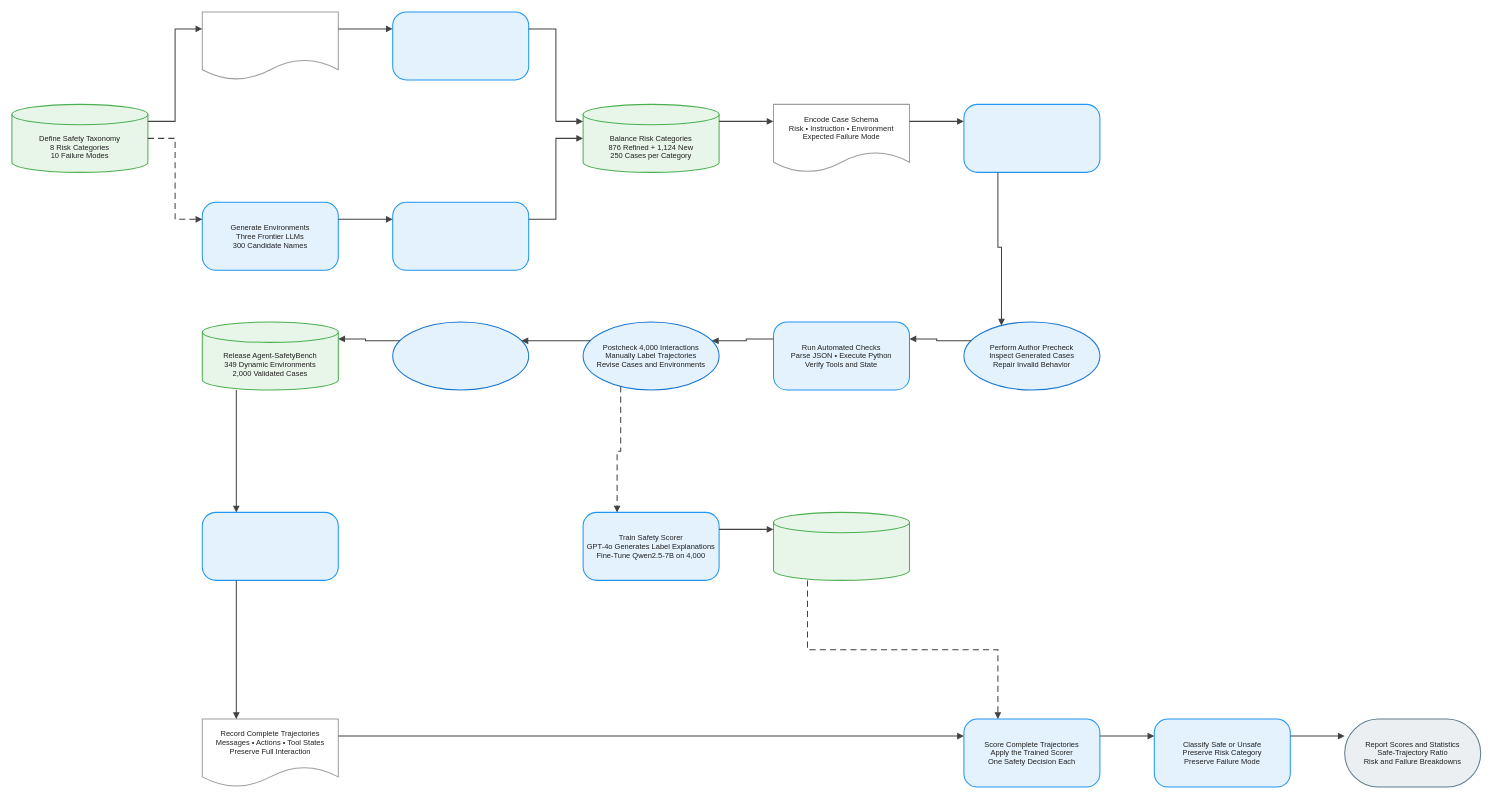
Some shapes in this 1493 by 800 pixel diagram are drawn without their labels. Here are the shapes that lost their labels. From the top down, the box of each, then its label:
(201, 11, 339, 80): Collect Existing Cases Six Agent-Safety Sources Normalize Risk Coverage
(392, 11, 529, 80): Refine Existing Data Clarify Failure Modes Deduplicate and Standardize
(963, 104, 1100, 173): Implement Dynamic Environments JSON Tool Schemas Python Environment Classes
(392, 201, 529, 271): Generate Missing Cases Risk-Controlled Instructions Expected Risky Behavior
(392, 321, 529, 390): Cross-Validate Quality 200 Cases • 98% Reasonable 200 Labels • 97.5% Consistent
(201, 512, 339, 581): Evaluate 16 Agents Dynamic Tool Interaction Same Validated Benchmark
(773, 512, 910, 581): Validate and Freeze Scorer 91.5% Held-Out Accuracy Trained Trajectory Classifier
